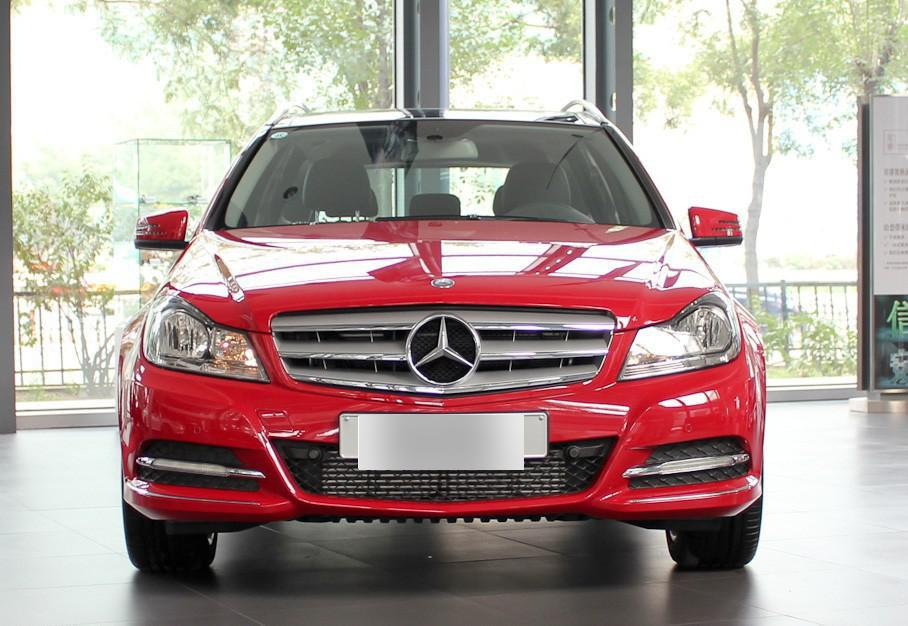Wagon: (116, 98, 768, 577)
